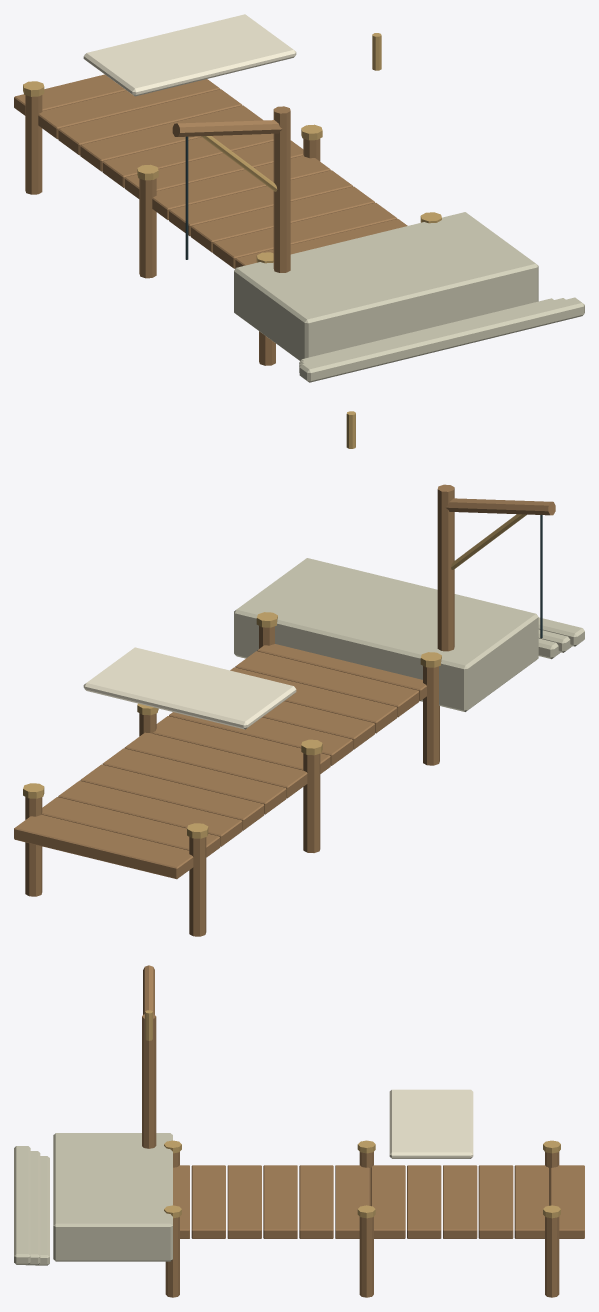
Rendered from level_22.glb.
3 views of the same model, one above another, from view 1: azimuth 30°, elevation 25°; view 2: azimuth 150°, elevation 25°; view 3: azimuth 270°, elevation 25° (orthographic). The views are drawn at different scales.
Visible parts, largest first — view 1: dock — level 22; view 2: dock — level 22; view 3: dock — level 22.
Part boxes in pixels (<box>): dock — level 22: <box>14,14,584,382</box>; dock — level 22: <box>14,411,584,936</box>; dock — level 22: <box>14,965,584,1297</box>.
Bounding box in the file's own units: 5.14 × 4.72 × 9.56.
